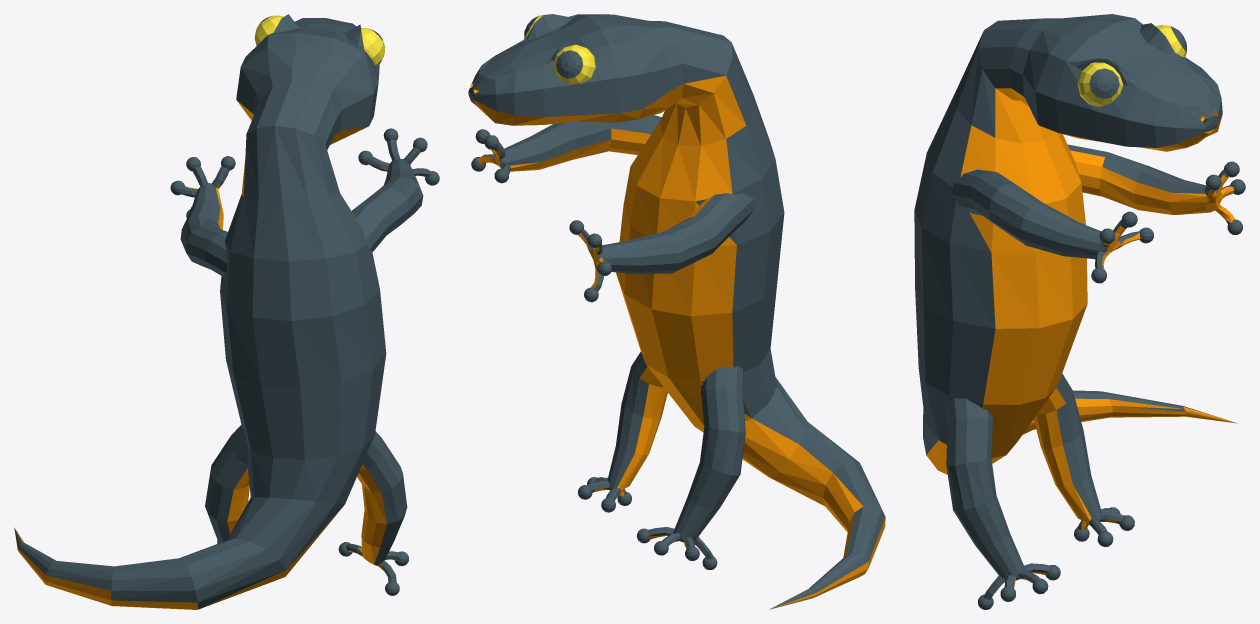
Rendered from Lizard.obj.
3 views of the same model, side by side, from view 1: azimuth 30°, elevation 25°; view 2: azimuth 150°, elevation 25°; view 3: azimuth 270°, elevation 25° (orthographic). The views are drawn at different scales.
Visible parts, largest first — view 1: mesh2117380443; view 2: mesh2117380443; view 3: mesh2117380443.
Boxes of the visible parts, x1,y1,x2,y2 form: mesh2117380443: (14, 14, 439, 609); mesh2117380443: (468, 14, 885, 609); mesh2117380443: (914, 14, 1245, 609).
Bounding box in the file's own units: 1.2 × 1.53 × 0.8084.
